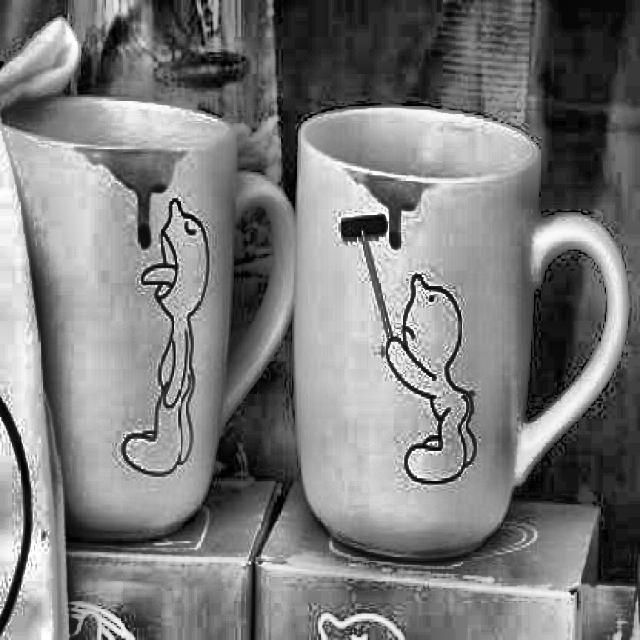Mug: (295, 104, 627, 564), (1, 95, 296, 542)
